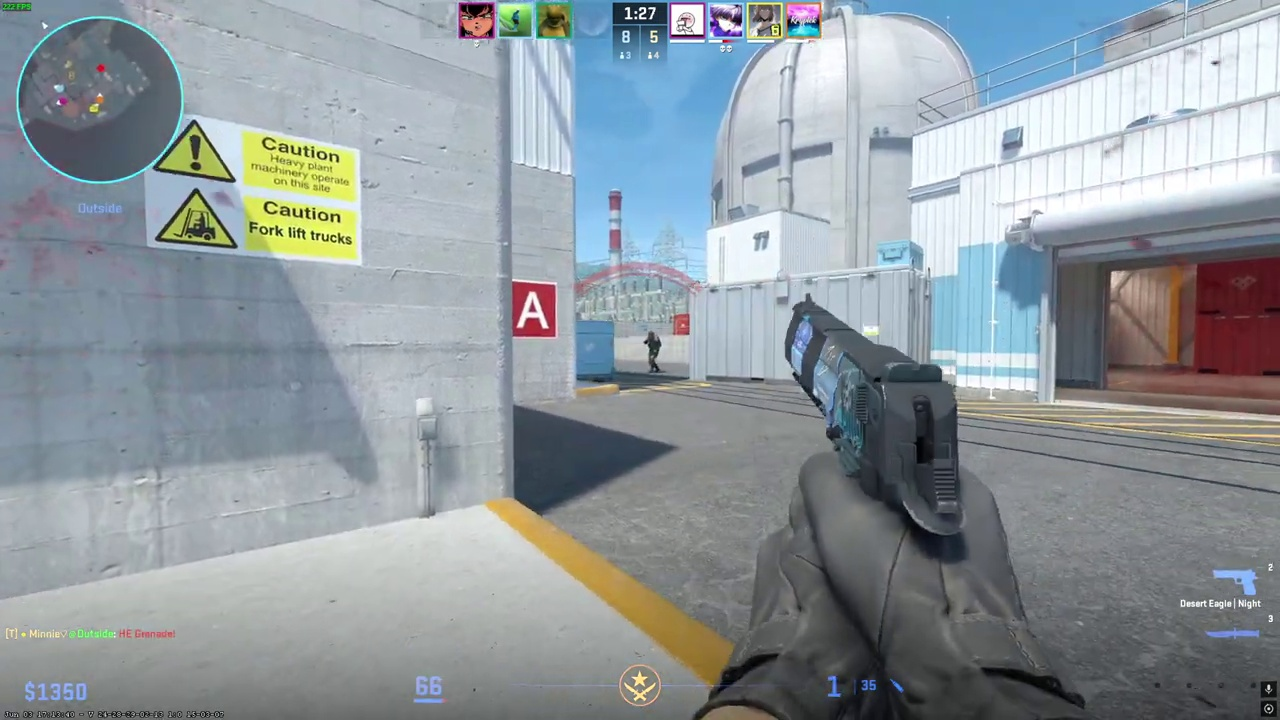CT: (645, 331, 662, 373)
